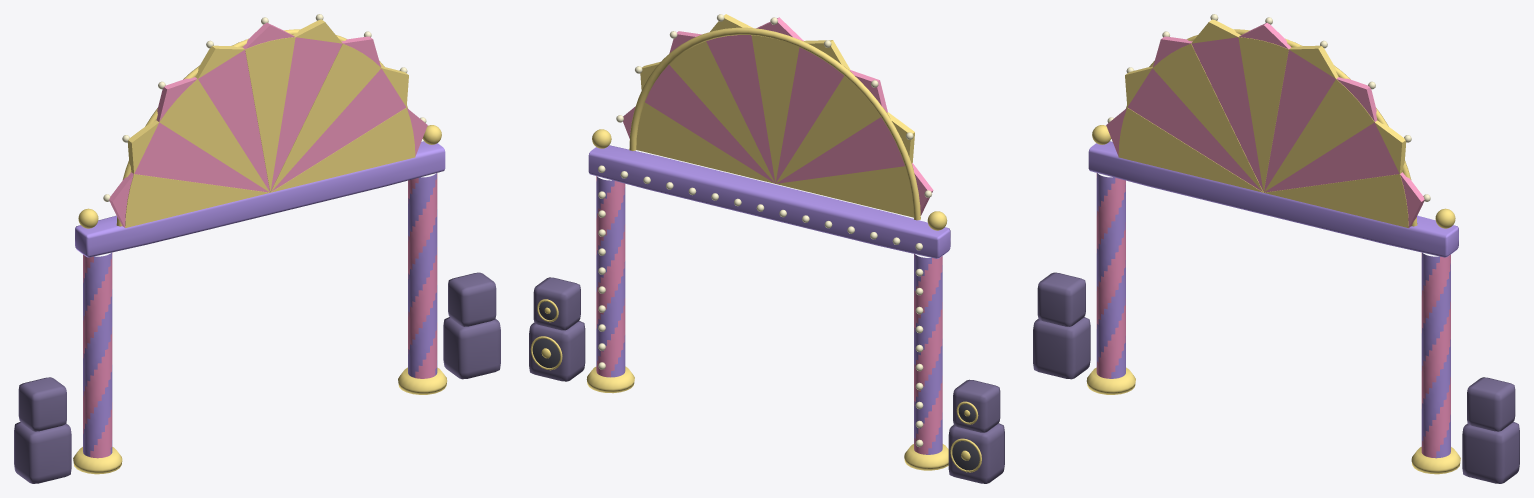
File: LobbyEmoteArch.glb
3 views of the same model, side by side, from view 1: azimuth 30°, elevation 25°; view 2: azimuth 150°, elevation 25°; view 3: azimuth 330°, elevation 25° (orthographic). The views are drawn at different scales.
Parts seen in each view (by area): view 1: FanA, FanB, Frame, Speakers, Stripes, Trim; view 2: FanA, Frame, FanB, Speakers, Trim, Stripes, Bulbs, Cones; view 3: FanA, FanB, Frame, Speakers, Stripes, Trim.
Boxes of the visible parts, box(x1,y1,x2,y2) form: FanA: box(125, 19, 415, 227); FanB: box(109, 23, 427, 227); Frame: box(75, 141, 445, 456); Speakers: box(14, 272, 500, 483); Stripes: box(83, 173, 437, 458); Trim: box(73, 29, 447, 474); FanA: box(636, 14, 914, 217); Frame: box(588, 145, 950, 454); FanB: box(623, 17, 933, 215); Speakers: box(529, 277, 1004, 483); Trim: box(530, 27, 981, 472); Stripes: box(596, 176, 942, 454); Bulbs: box(598, 14, 931, 447); Cones: box(532, 301, 979, 470); FanA: box(1118, 19, 1408, 227); FanB: box(1106, 23, 1424, 227); Frame: box(1088, 141, 1458, 458); Speakers: box(1033, 272, 1519, 483); Stripes: box(1096, 173, 1450, 457); Trim: box(1086, 29, 1460, 474).
Size of the model in its own units: 40.6 by 33.8 by 4.11.
